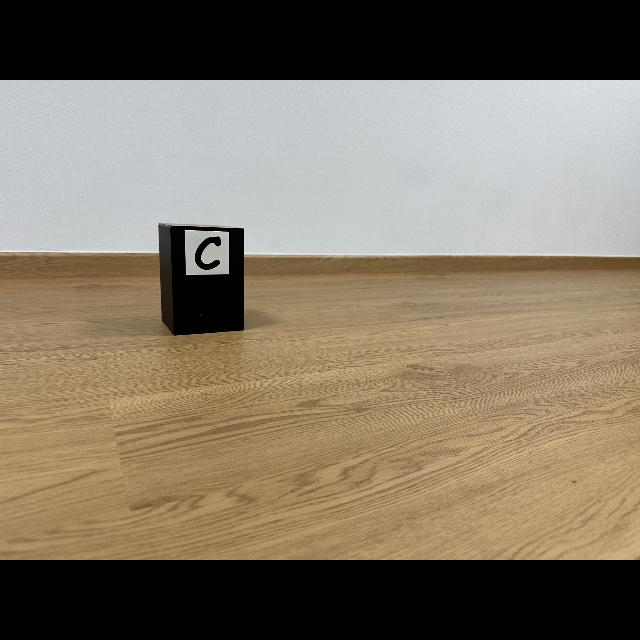C: (195, 236, 221, 270)
